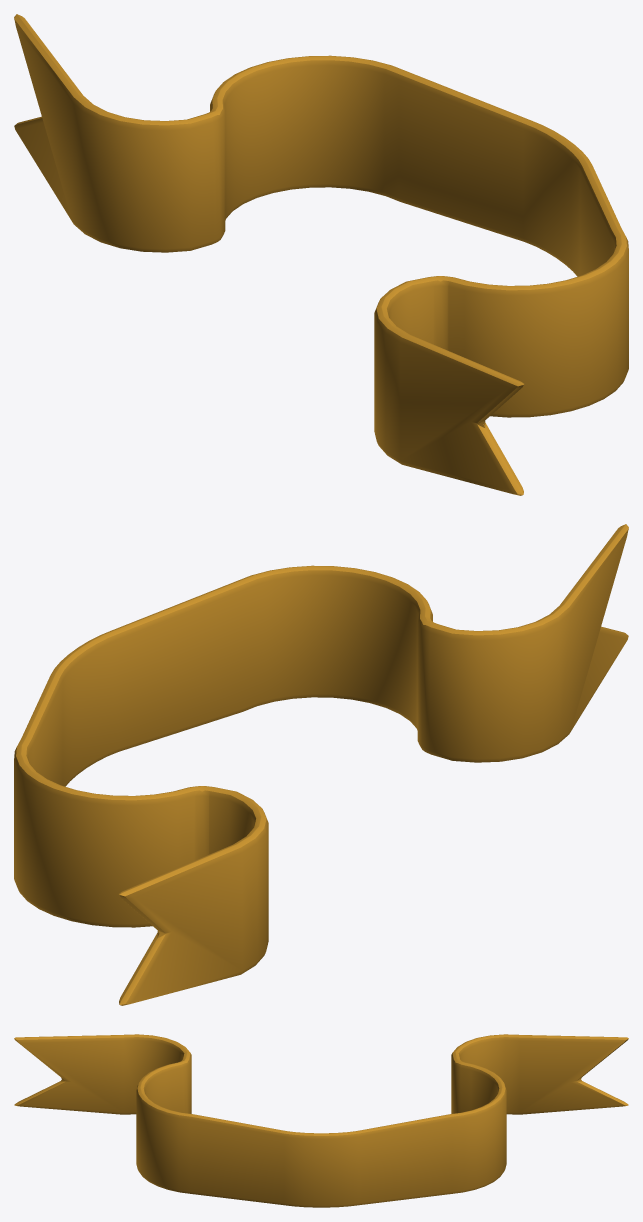
The model's file is kurdele1.fbx.
3 renders of one model, top to bottom at view 1: azimuth 30°, elevation 25°; view 2: azimuth 150°, elevation 25°; view 3: azimuth 270°, elevation 25°, orthographic. The views are drawn at different scales.
Visible parts, largest first — view 1: Circle; view 2: Circle; view 3: Circle.
Boxes of the visible parts, x1,y1,x2,y2 form: Circle: (14, 14, 628, 495); Circle: (14, 524, 628, 1005); Circle: (14, 1034, 628, 1207).
Bounding box in the file's own units: 161 × 64.14 × 421.
